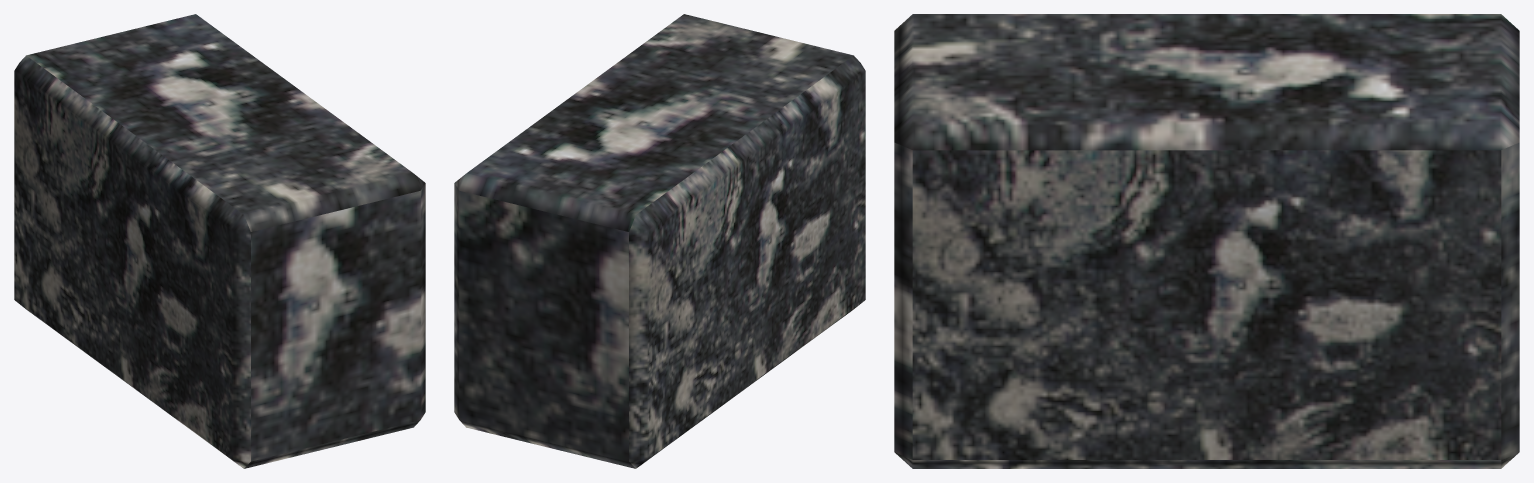
File: SM_bricks_separate_02.fbx
The picture shows the model from 3 angles, left to right: view 1: azimuth 30°, elevation 25°; view 2: azimuth 150°, elevation 25°; view 3: azimuth 270°, elevation 25°; orthographic projection. The views are drawn at different scales.
Visible parts, largest first — view 1: SM_bricks_separate_02_LOD0; view 2: SM_bricks_separate_02_LOD0; view 3: SM_bricks_separate_02_LOD0.
Boxes of the visible parts, left/top/right/bottom form: SM_bricks_separate_02_LOD0: left=14, top=14, right=425, bottom=468; SM_bricks_separate_02_LOD0: left=454, top=14, right=865, bottom=468; SM_bricks_separate_02_LOD0: left=894, top=14, right=1519, bottom=468.
Bounding box in the file's own units: 23.2 × 48.11 × 29.14.
